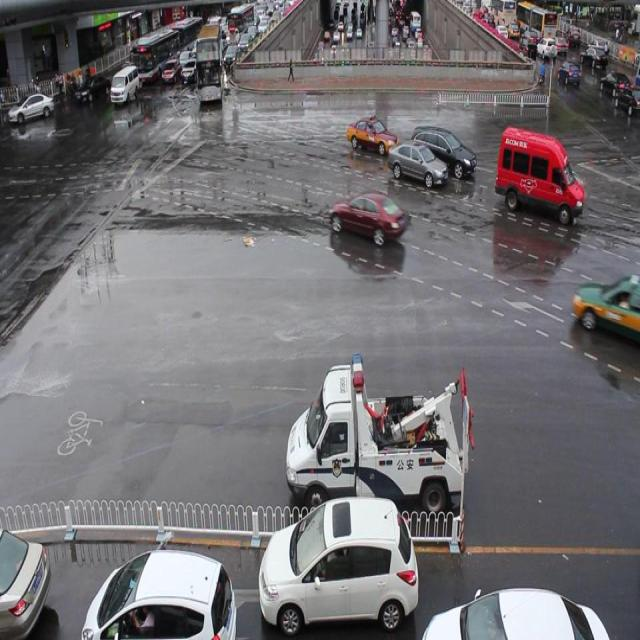bus: (286, 354, 472, 522)
car: (258, 498, 418, 629), (81, 547, 236, 640), (421, 586, 608, 640), (1, 525, 51, 640), (572, 274, 640, 342), (329, 191, 406, 249), (410, 126, 474, 180), (386, 142, 447, 188), (346, 116, 397, 154)
truck: (494, 126, 582, 226)
van: (196, 25, 224, 107)
